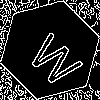W: (25, 25, 91, 91)
